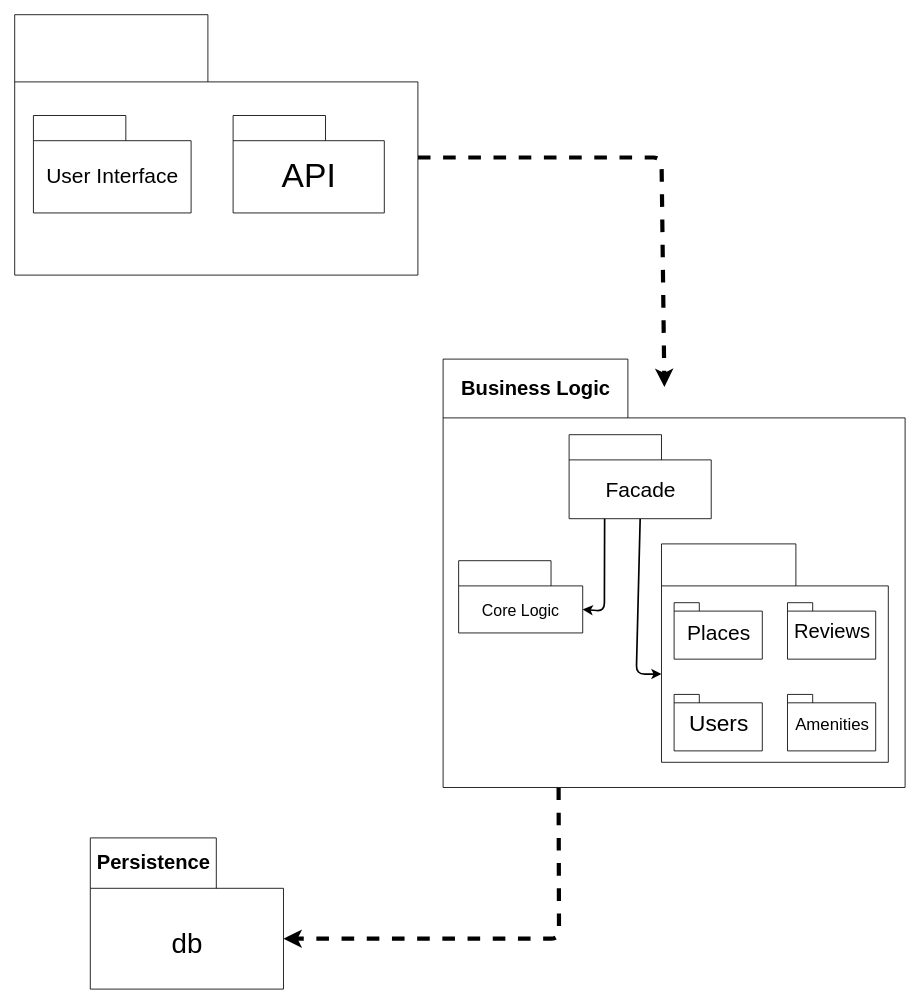
The diagram is 920 pixels wide and 1004 high, and some of its shapes have lost their labels. Each missing label, with the box of its shape:
Busiines Logic: (661, 543, 888, 762)
Presentation Layer: (14, 14, 418, 275)
